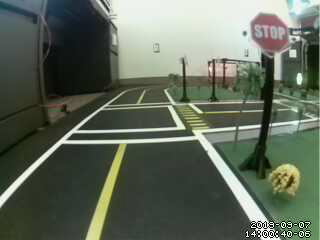Stop_Sign: (246, 10, 297, 60)
